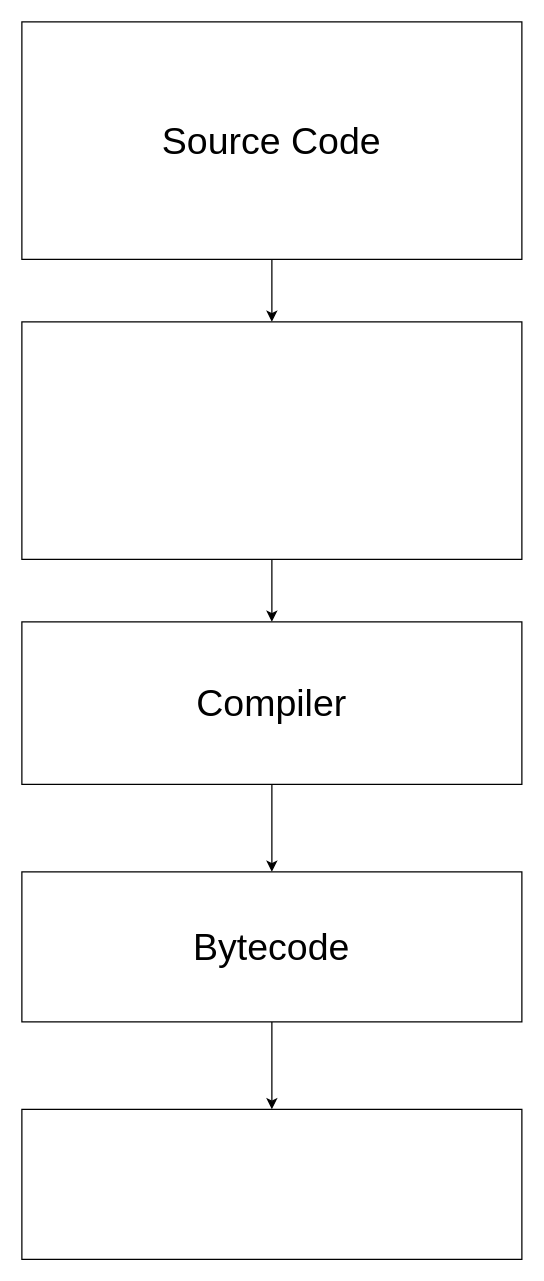
Image size: 544x1281. Some labels were removed from this diagram. Here are the shapes that lost their labels. From the top down, the box of each, then its label:
(21, 321, 522, 559): AST
(21, 1108, 522, 1259): VM
